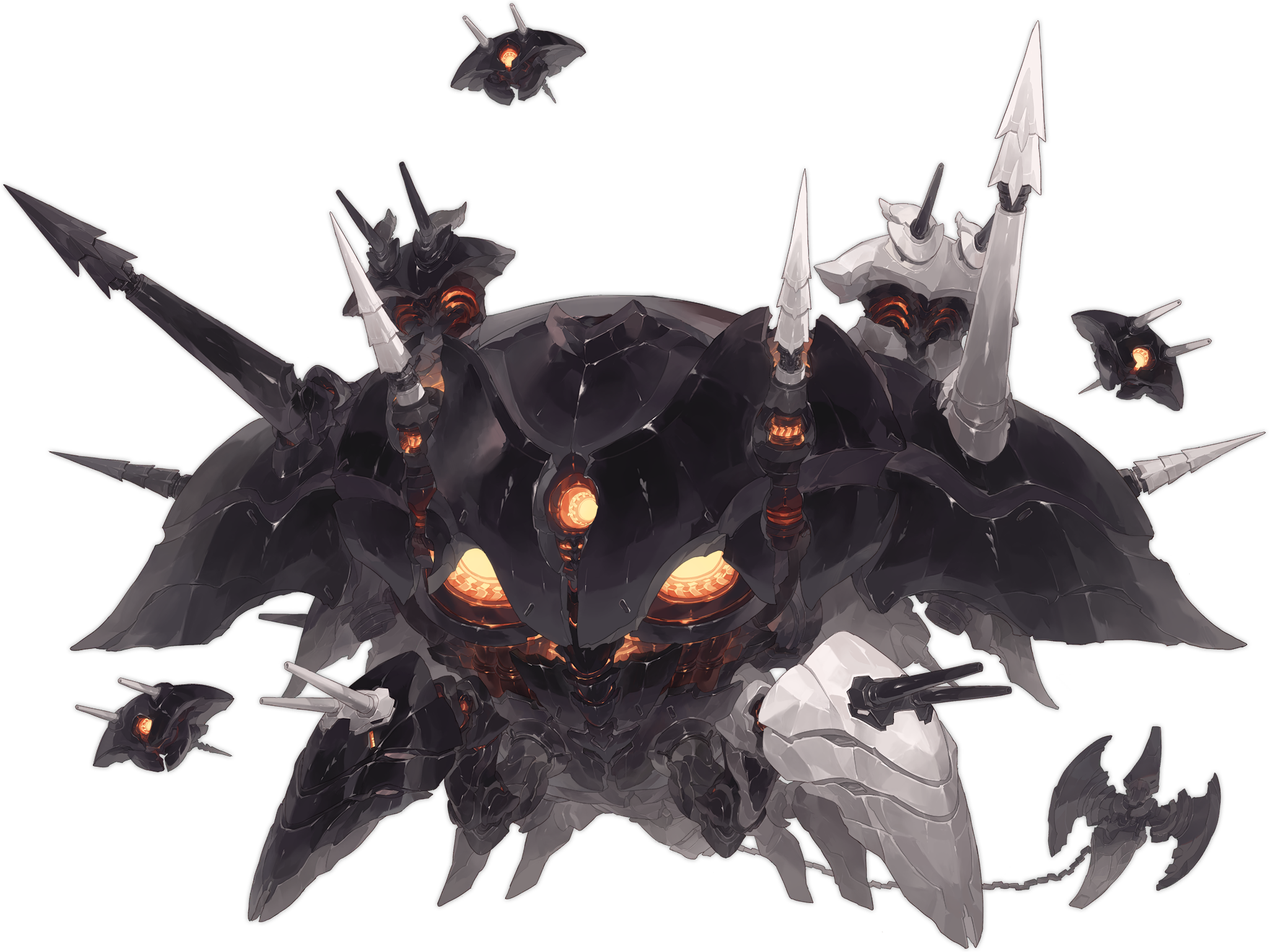person: (2, 1, 1267, 951)
